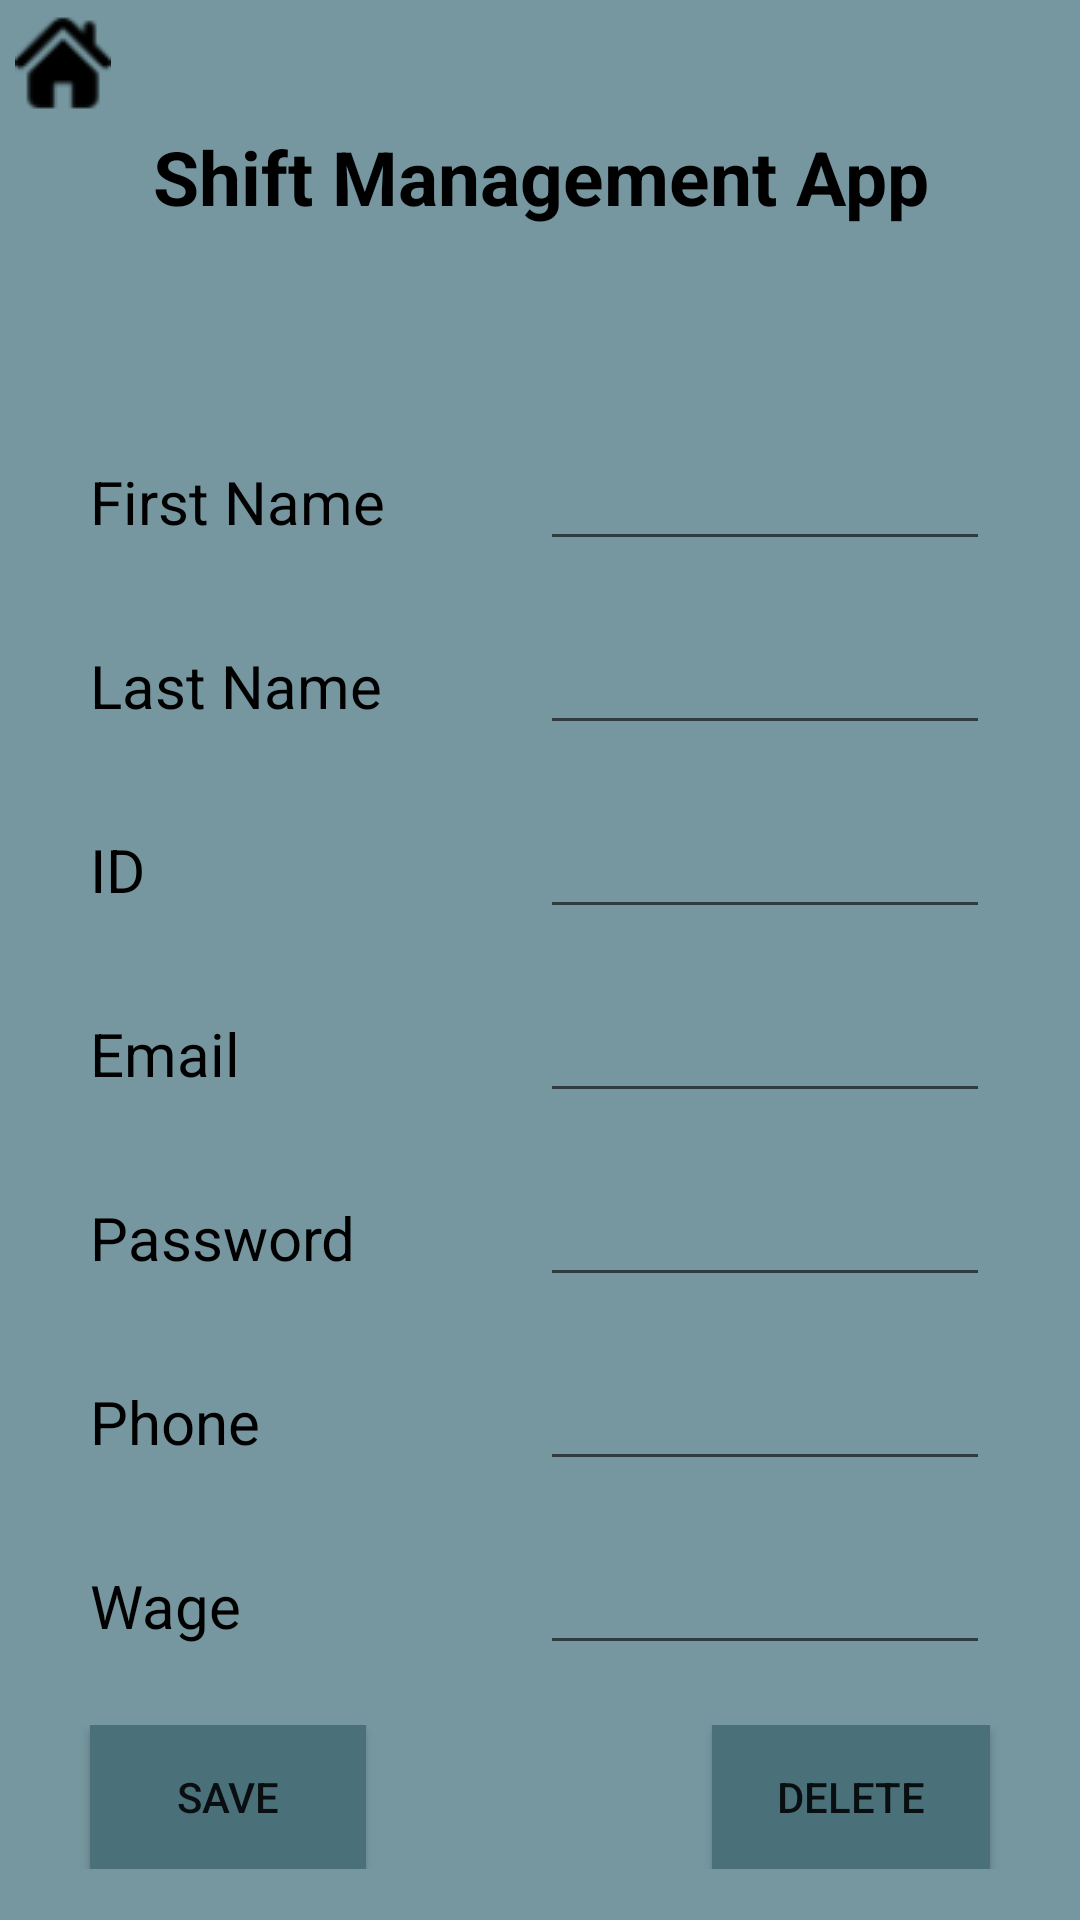

Named icons in this screenshot (1080*1920) and their bounding boxes, BBox(x1, y1, x2, y2):
home: BBox(15, 17, 111, 109)
